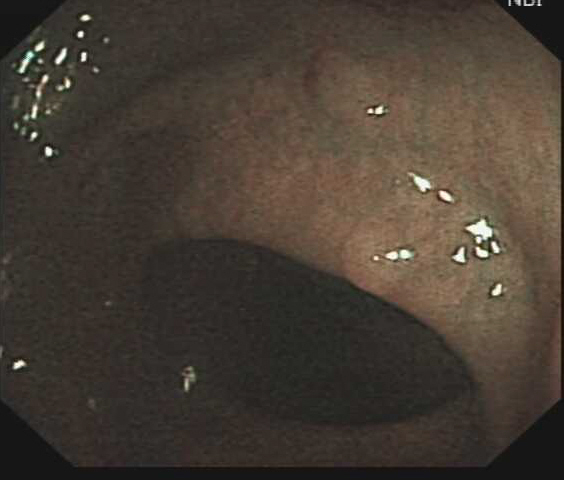others: (338, 212, 408, 298)
